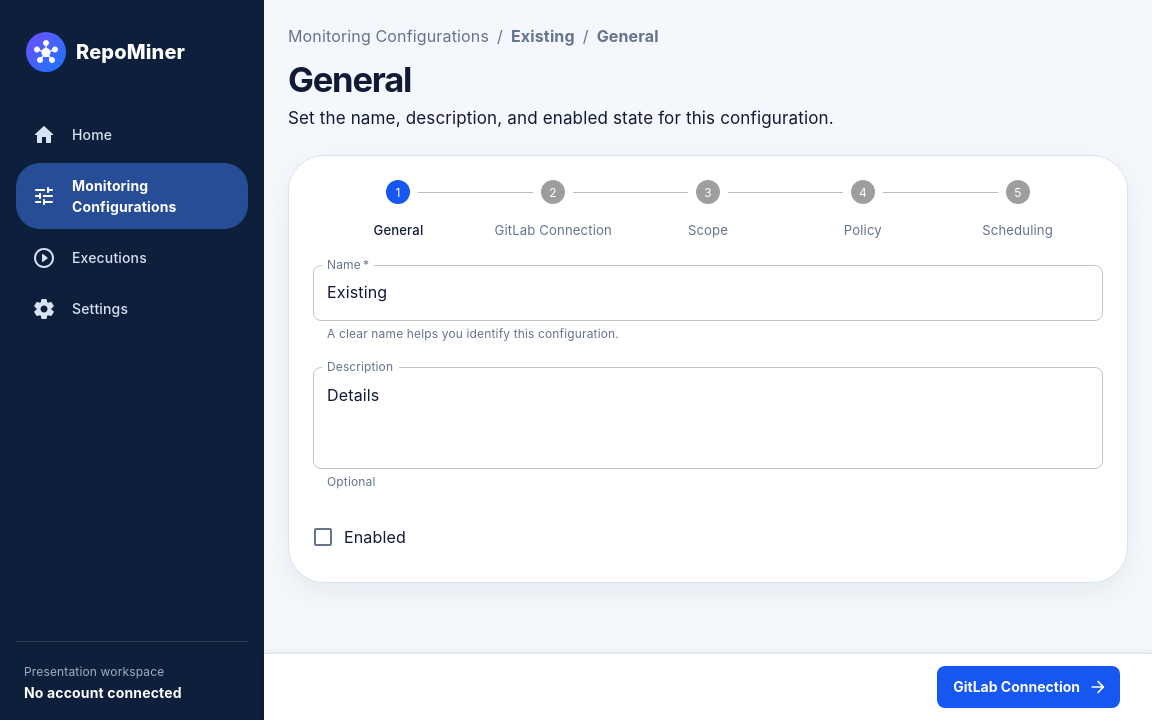
preserves edit values when an optimistic concurrency conflict is returned
This screenshot has width=1152, height=720.
Replace the text in the field labelled "Name" with "My unsaved edit": (708, 293) [313,265,1103,321]
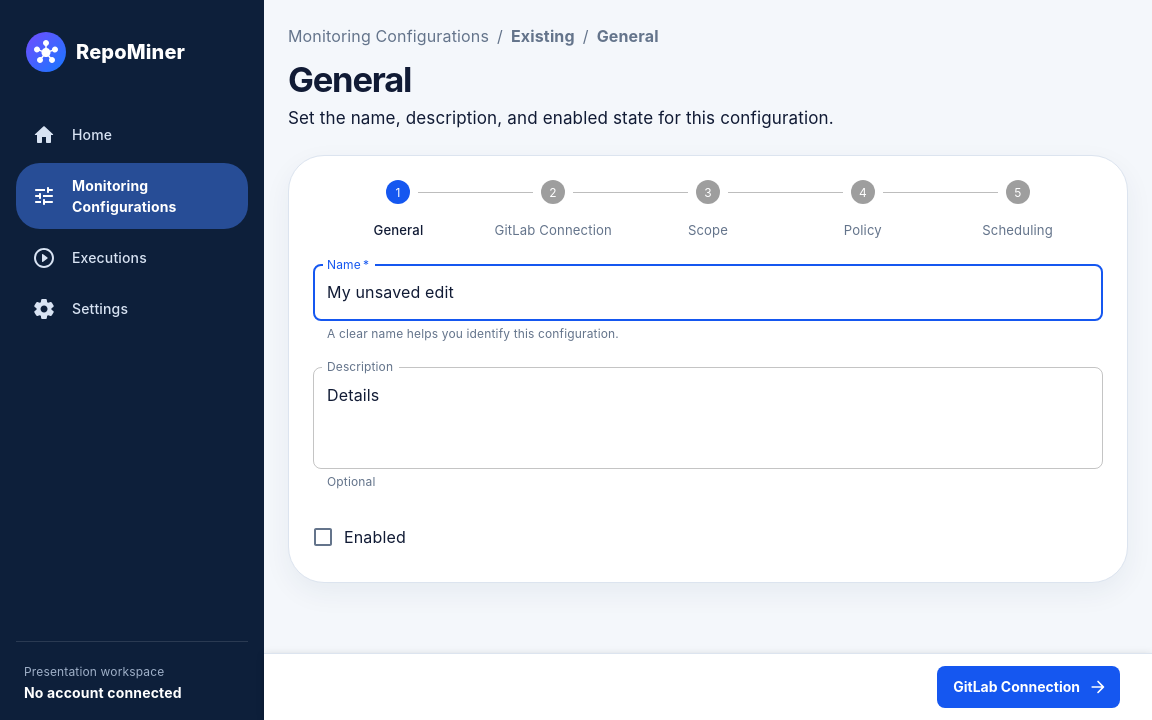
Click the button with aria-label "next step: gitlab connection": (1029, 687) [937,666,1120,708]
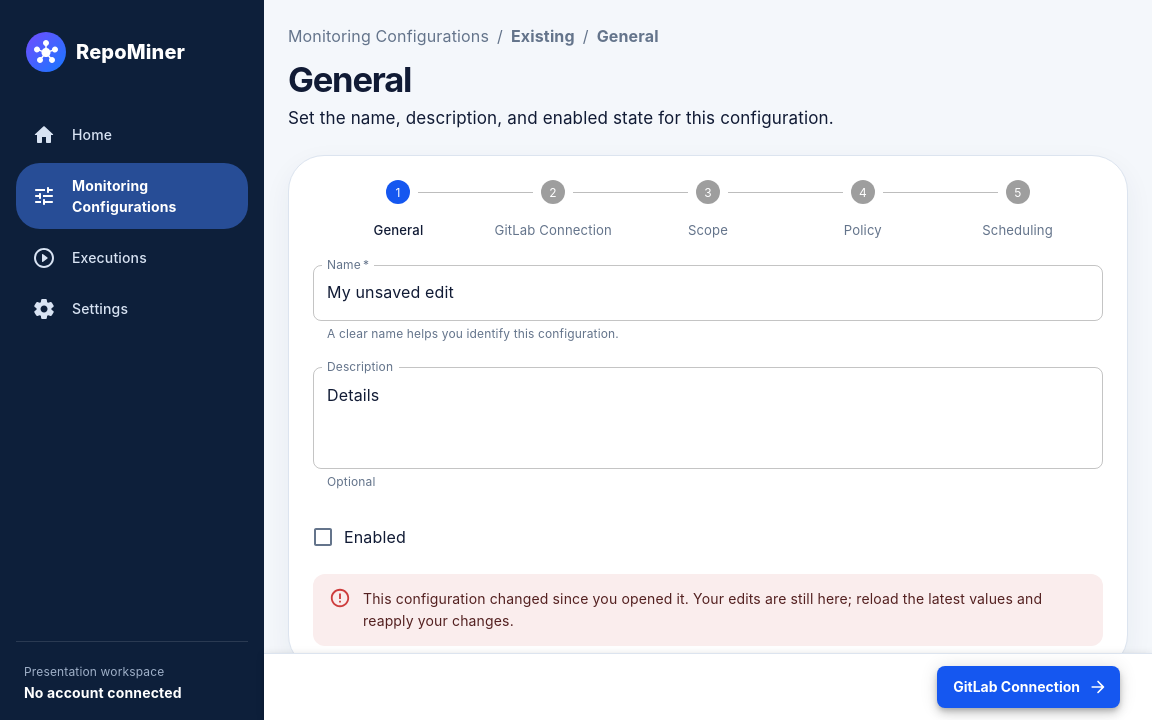
Now the text "changed since you opened it" is shown, box [363,590,1042,629]
